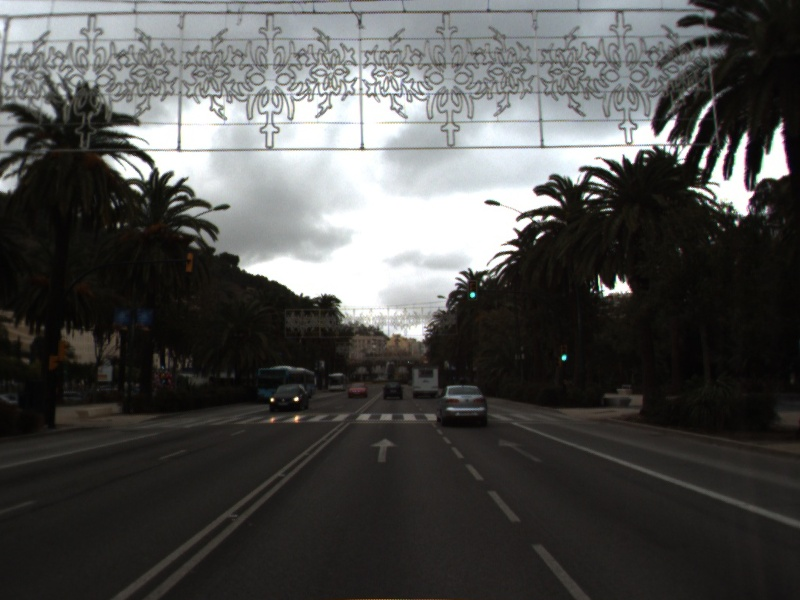STRAIGHT: (496, 436, 545, 464), (368, 436, 401, 464)
